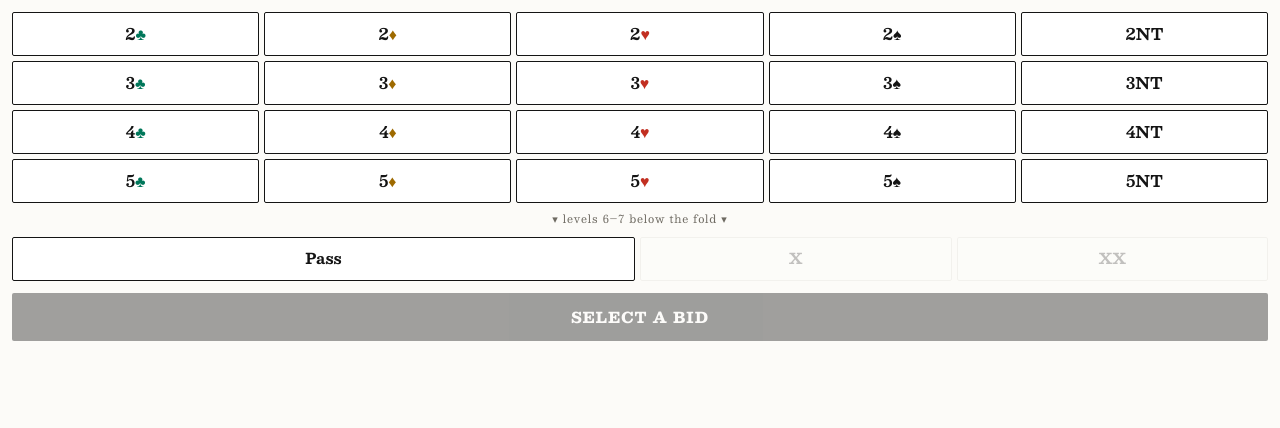
Test case: BidBox › expands the fold to reveal every level above the window
Click the button "▾ levels 6–7 below the fold ▾".
click(640, 217)  # box left=12, top=203, right=1268, bottom=232
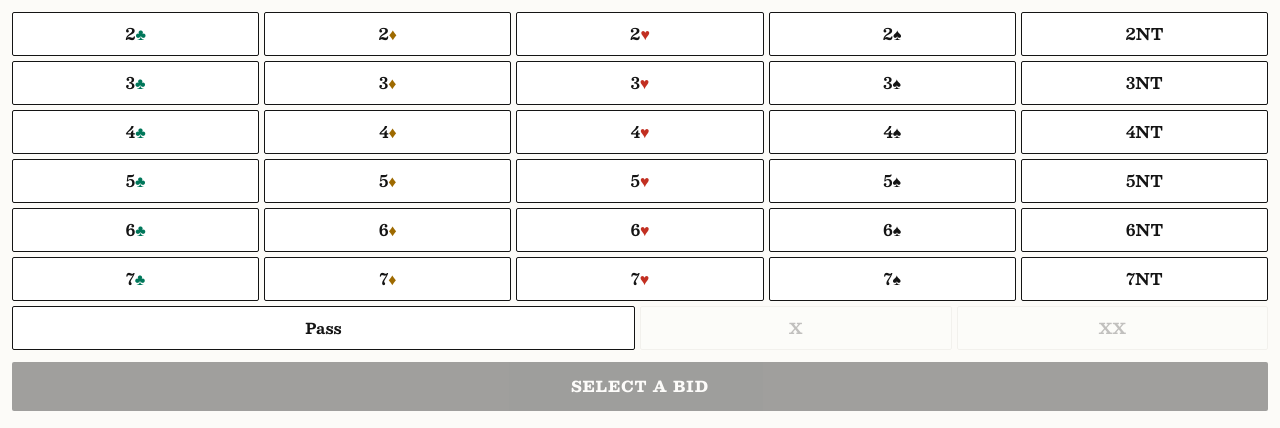
Check: the button "7NT" is shown, box left=1021, top=257, right=1268, bottom=301
